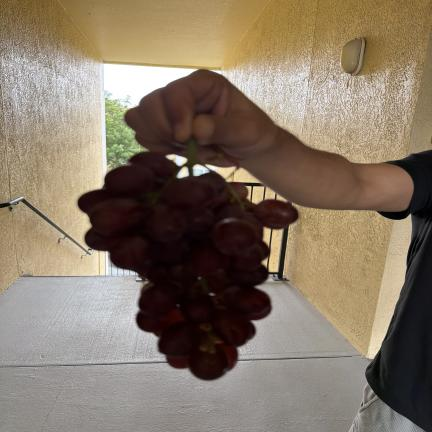grape_cluster: (78, 139, 297, 380)
